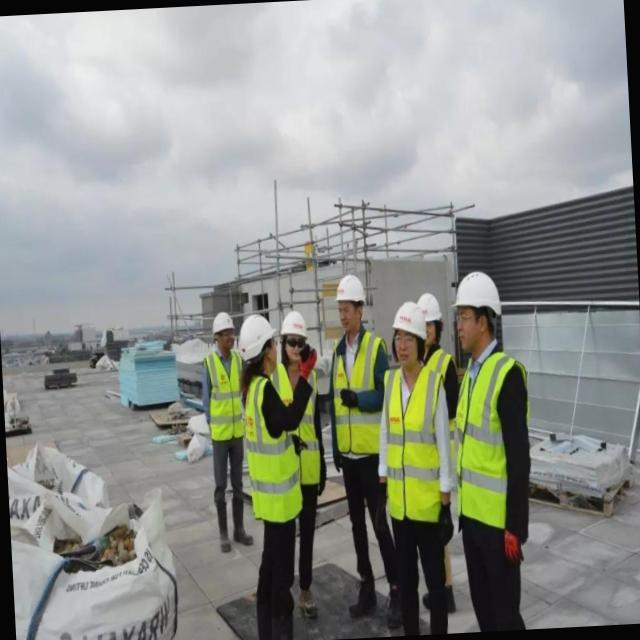helmet: (448, 268, 503, 314), (391, 298, 428, 345), (239, 311, 273, 362), (331, 272, 368, 310), (280, 306, 310, 339), (212, 308, 236, 334)
vest: (447, 348, 534, 533), (376, 366, 448, 523), (242, 374, 300, 528), (324, 329, 389, 461), (202, 346, 248, 446)
